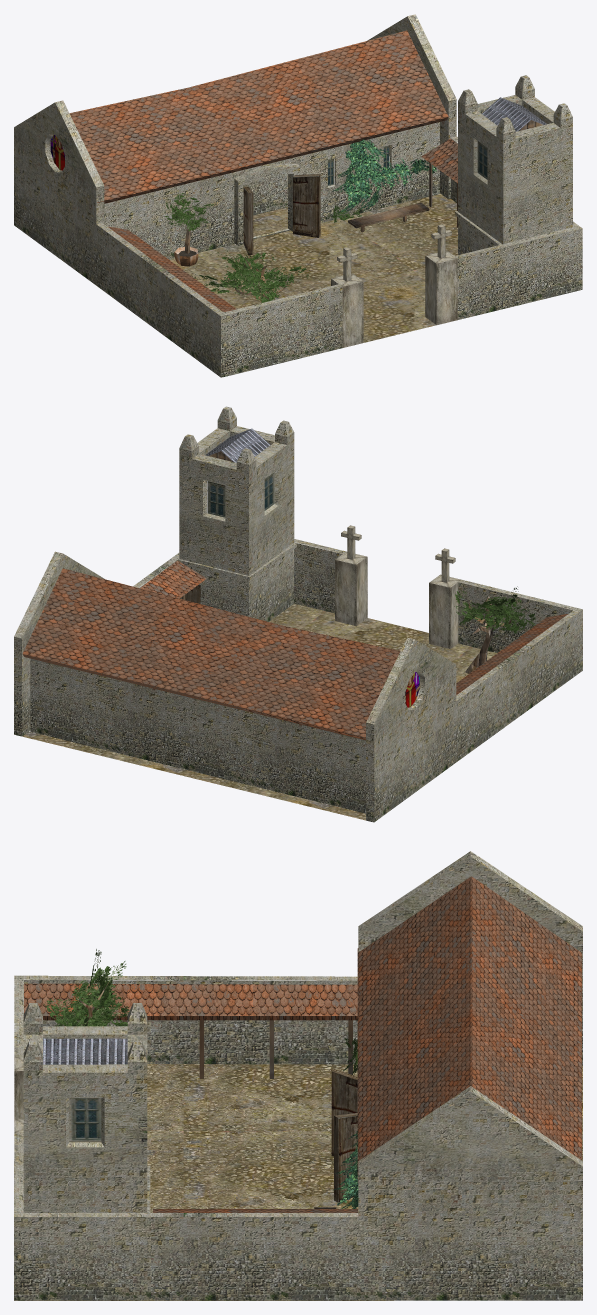
File: building_monastery.glb
The picture shows the model from 3 angles, top to bottom: view 1: azimuth 30°, elevation 25°; view 2: azimuth 150°, elevation 25°; view 3: azimuth 270°, elevation 25°; orthographic projection. The views are drawn at different scales.
Visible parts, largest first — view 1: building_monastery; view 2: building_monastery; view 3: building_monastery.
Boxes of the visible parts, x1,y1,x2,y2 form: building_monastery: (14, 14, 582, 377); building_monastery: (14, 406, 582, 822); building_monastery: (14, 851, 582, 1300).
Bounding box in the file's own units: 24.69 × 12.66 × 24.6.
11 materials, 11 textured.
